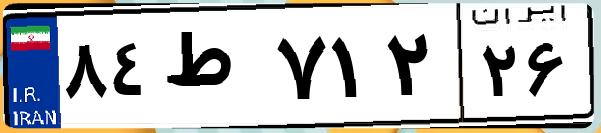1: (330, 28, 385, 110)
2: (385, 28, 445, 110), (475, 38, 525, 113)
4: (110, 28, 158, 98)
6: (525, 38, 570, 115)
7: (270, 28, 330, 110)
8: (57, 26, 110, 100)
ط: (158, 20, 270, 120)
